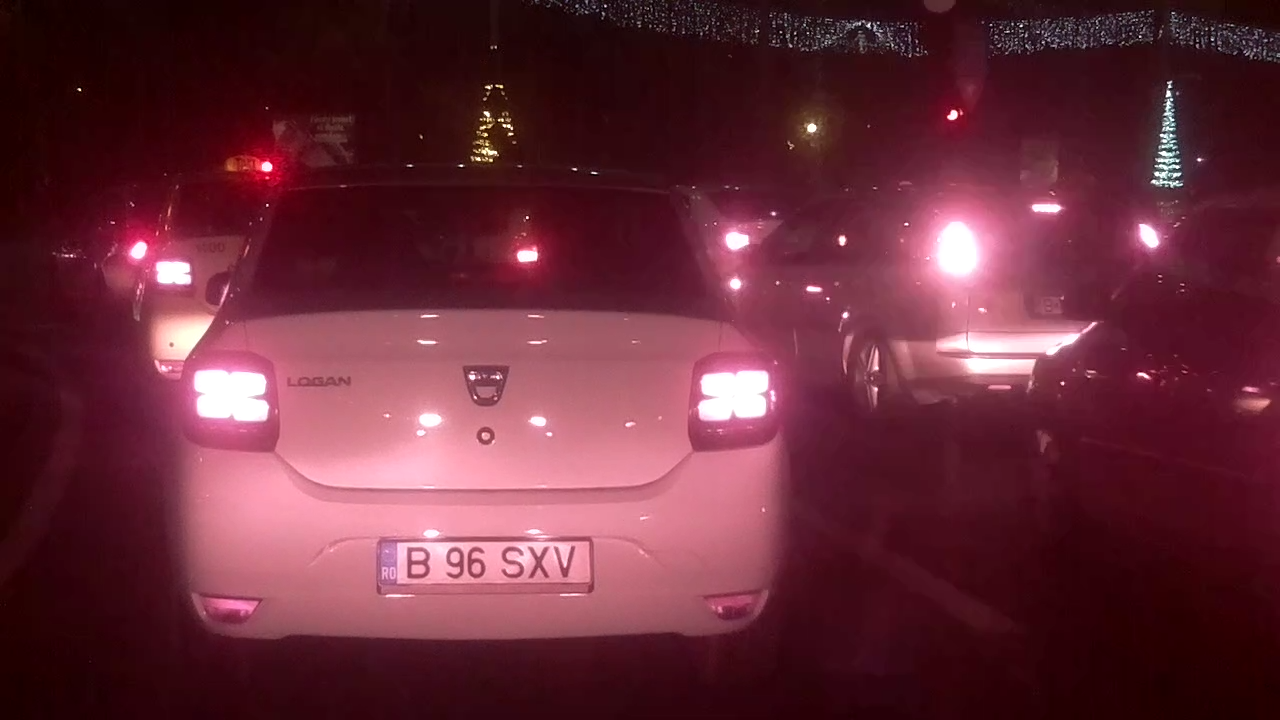license-plate: (370, 533, 599, 594)
